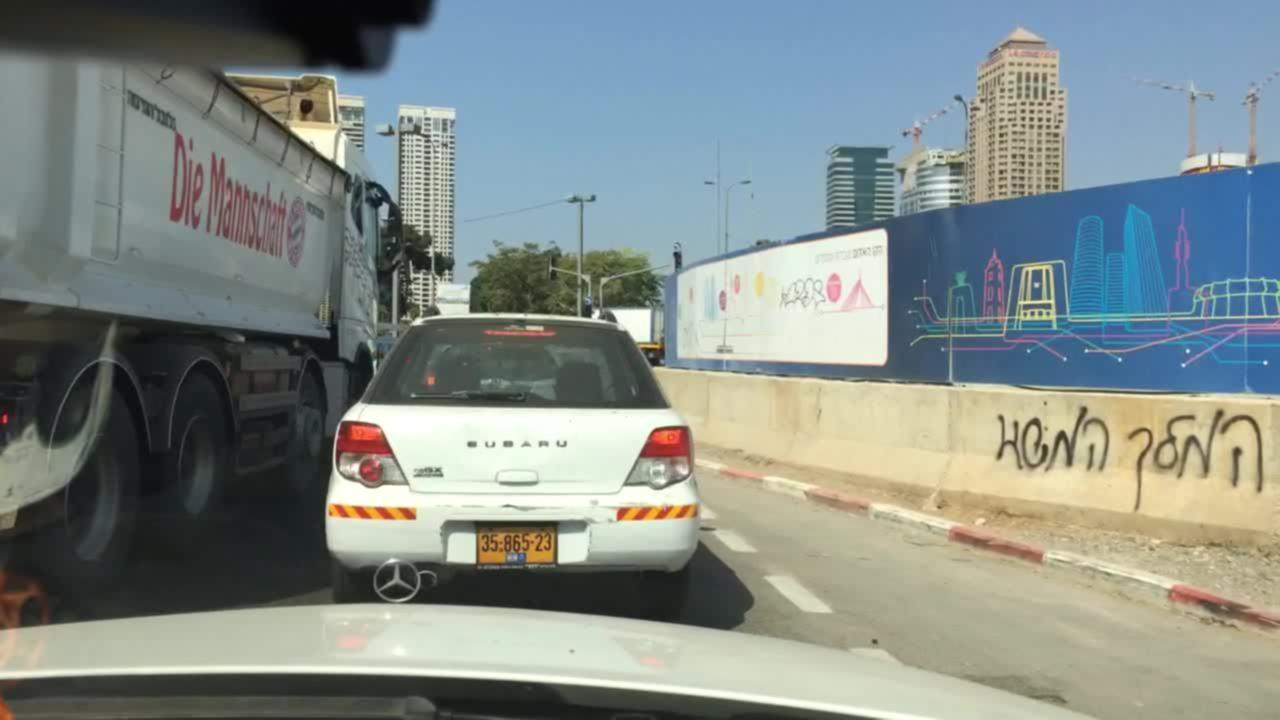Mercedes: (363, 547, 430, 607)
